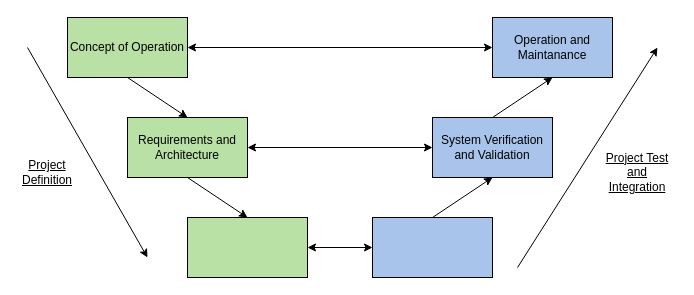
Image size: 694x295. Some labels were removed from this diagram. The centre of each missing label's shape, as x and y in pixels:
"Implementation" goes at (x=247, y=247).
"Integration Test and Verification" goes at (x=432, y=247).
